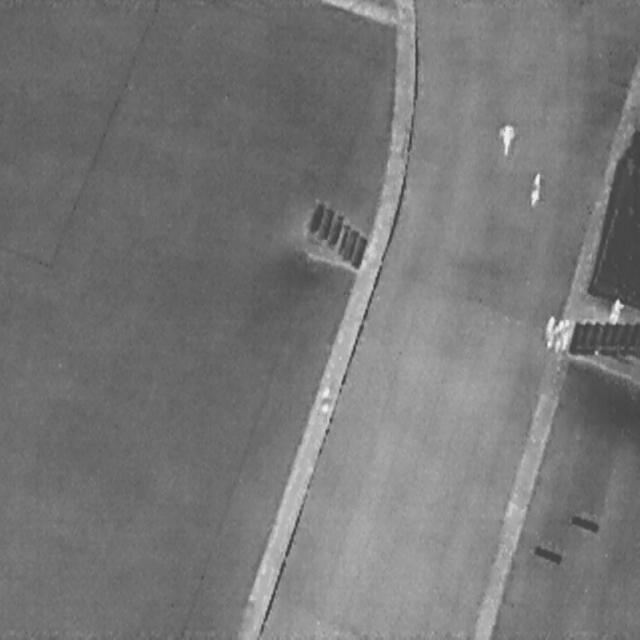Person: (605, 290, 626, 328), (496, 119, 516, 158), (526, 166, 543, 209), (541, 311, 556, 351), (317, 382, 332, 418), (550, 318, 564, 352), (559, 316, 570, 349)
